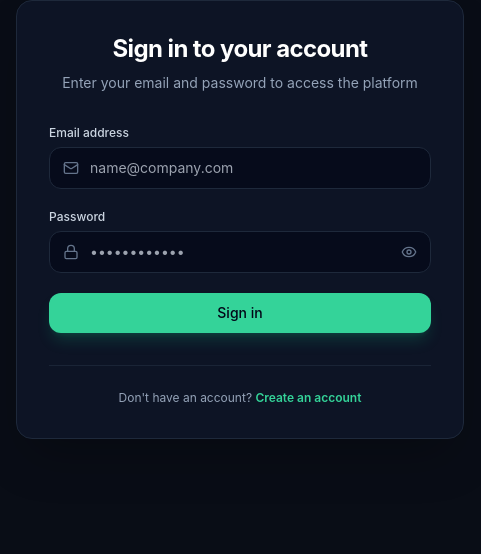
Test case: LoginForm Component › handles INVALID_CREDENTIALS error from backend properly
Type "user@example.com" into the field labelled "Email address".
click(240, 168); type("user@example.com")  # box [49,147,431,189]
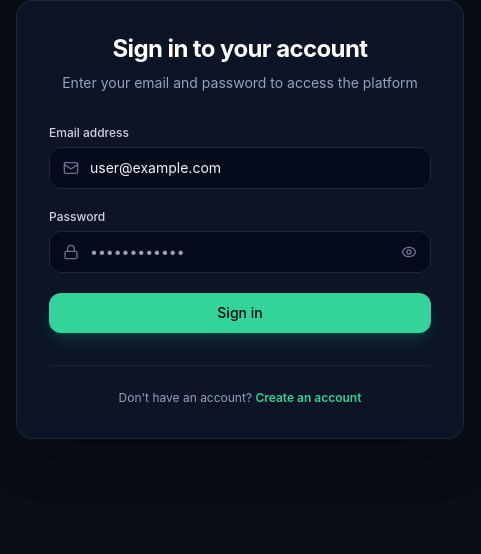
Type "WrongPassword123!" into the password field labelled "Password".
click(240, 252); type("WrongPassword123!")  # box [49,231,431,273]
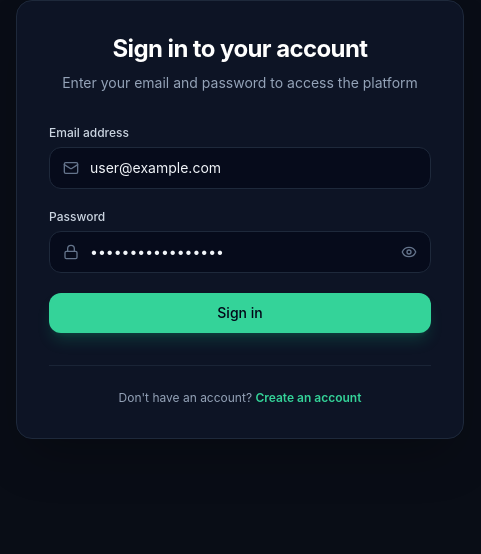
Click the button "Sign in".
click(240, 313)  # box [49,293,431,333]
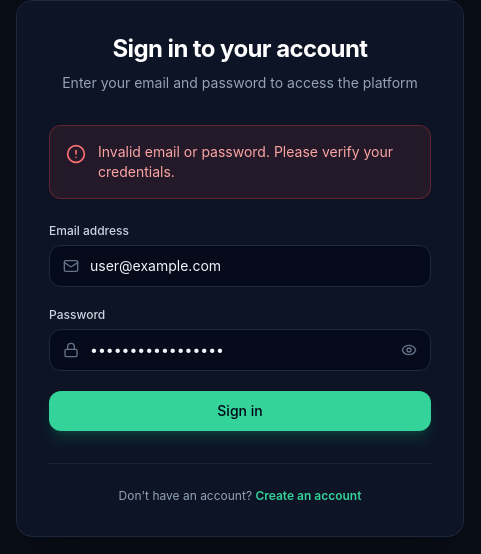
Now the message "Invalid email or password. Please verify your credentials." is shown, box [49,125,431,199]
Now the text "Invalid email or password. Please verify your credentials." is shown, box [98,142,414,182]
